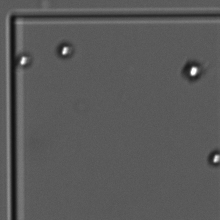Living Cell: (209, 148, 220, 173), (57, 43, 72, 58), (187, 63, 200, 79), (18, 54, 29, 67)
